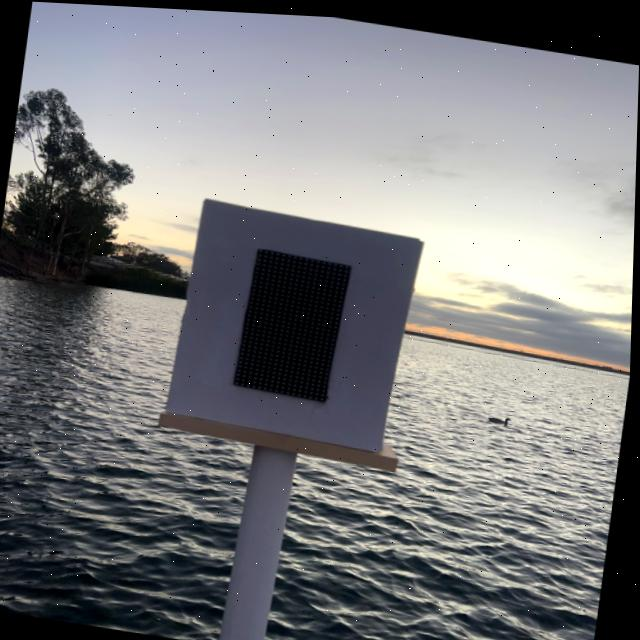led: (201, 213, 386, 425)
